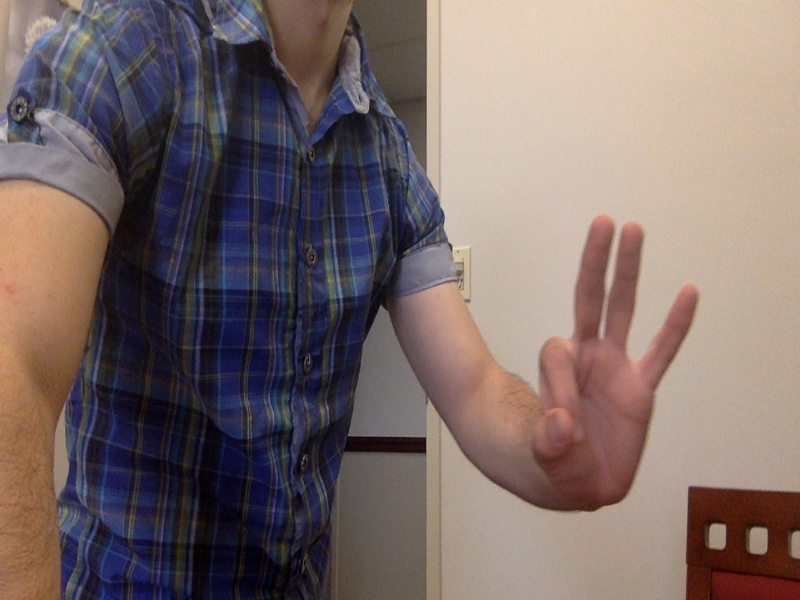3-hand: (535, 215, 703, 512)
